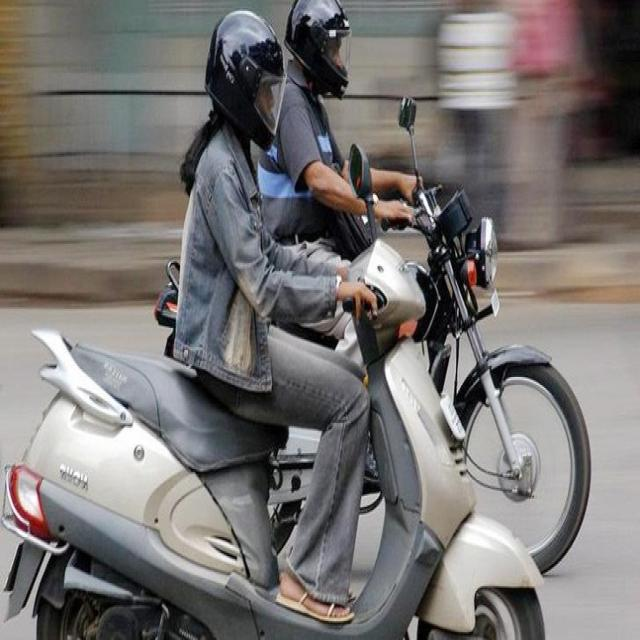motorcycle: (2, 12, 545, 640), (258, 0, 590, 572)
